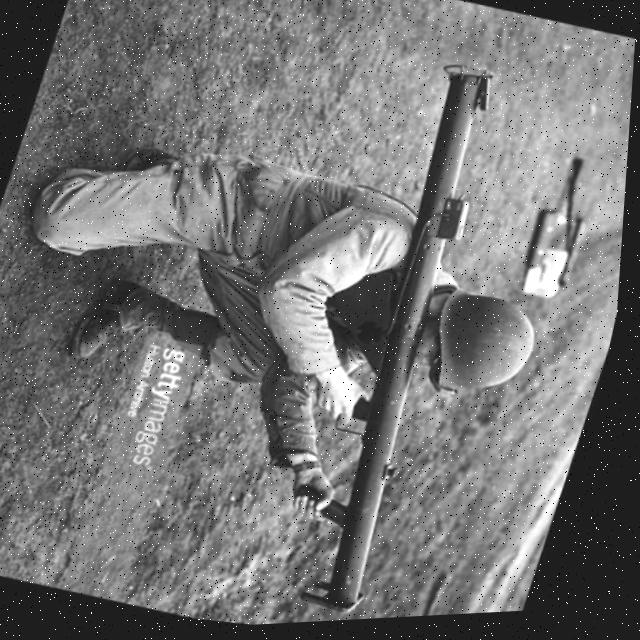rocket: (279, 51, 545, 627)
